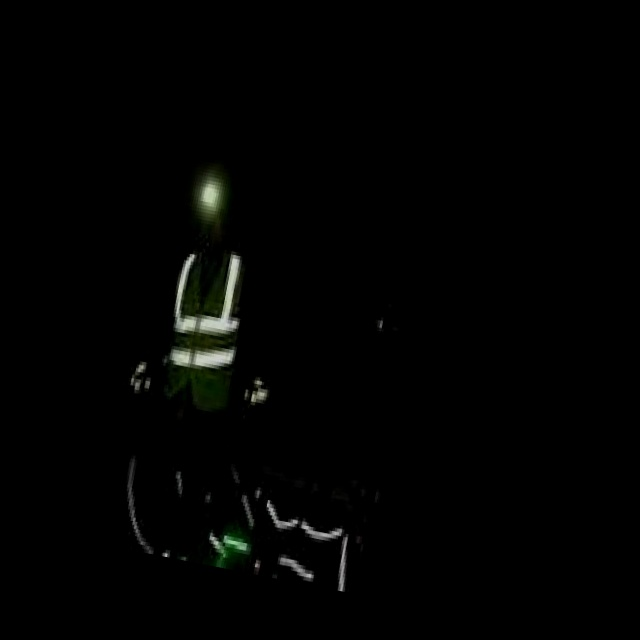Con_Chaleco: (154, 234, 252, 413)
